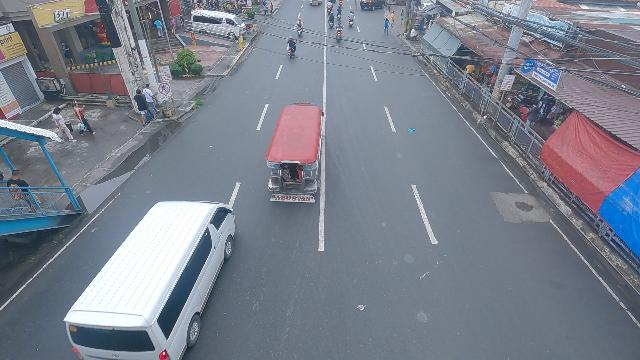jeepney: (266, 102, 327, 207)
van: (61, 198, 238, 360)
